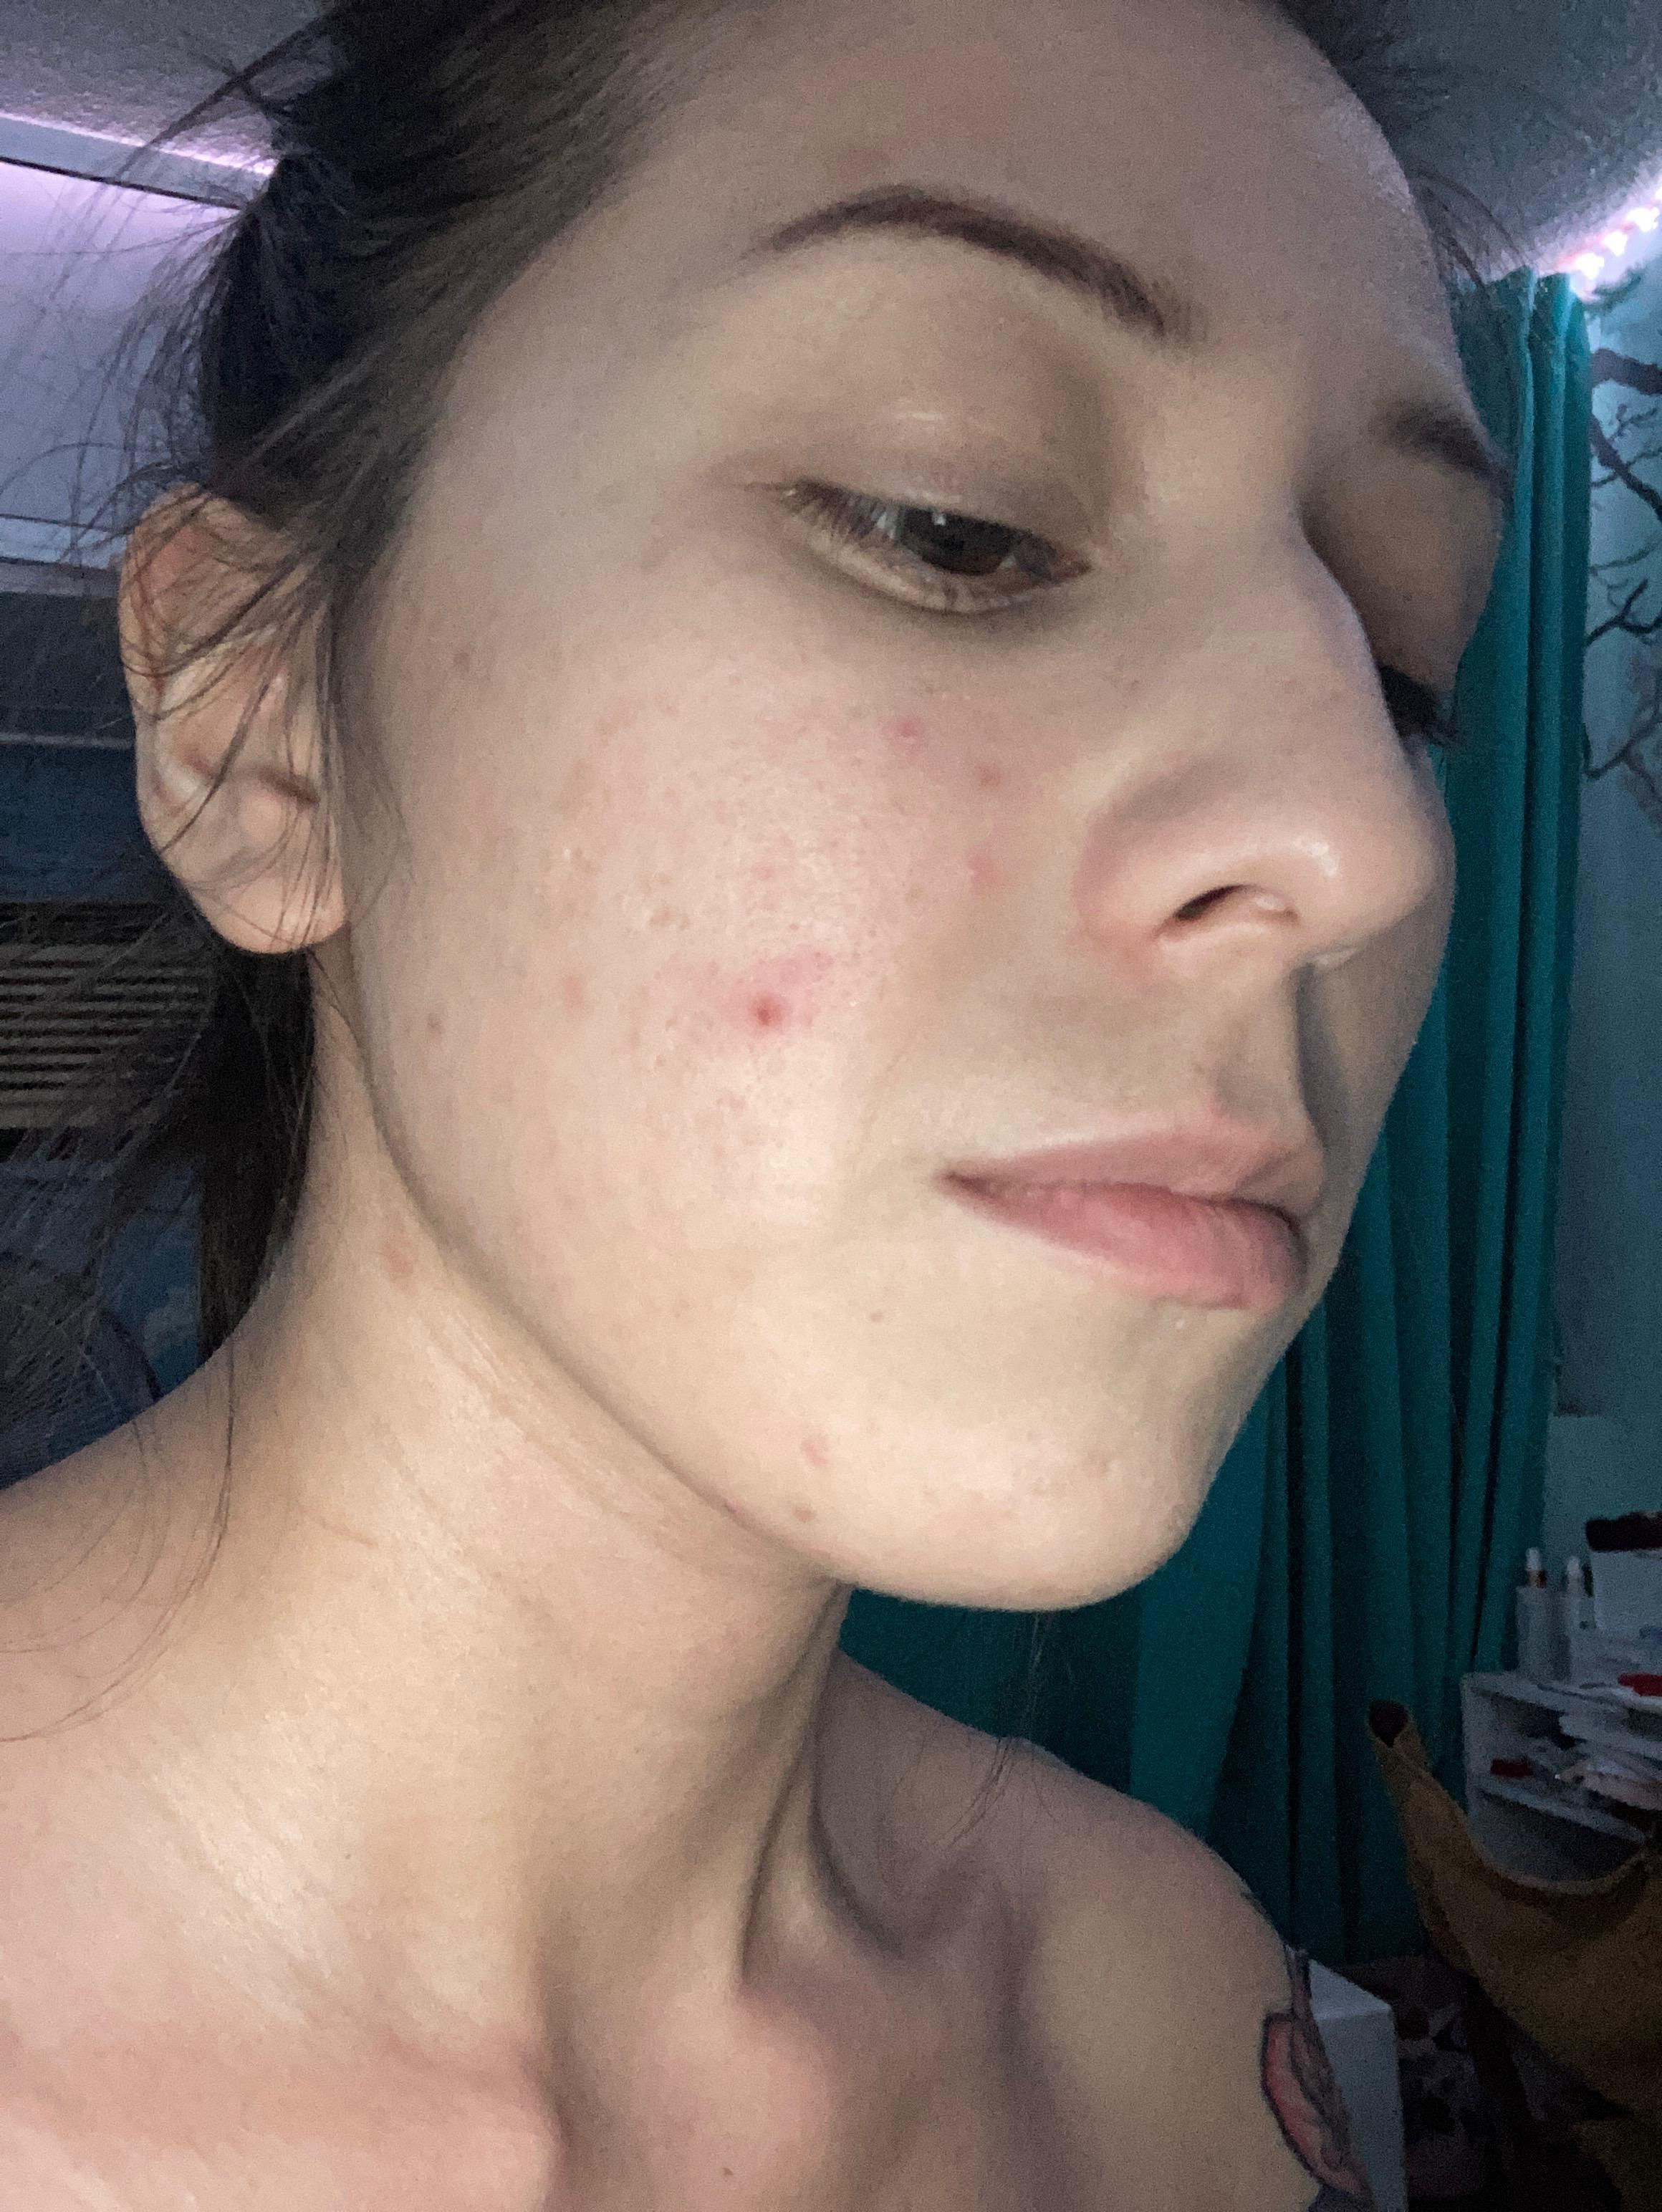Acne: (861, 698, 944, 756), (738, 997, 800, 1049), (787, 1416, 838, 1472), (637, 887, 677, 951), (962, 822, 988, 892), (560, 972, 592, 1023), (801, 1480, 826, 1538)
Eyebags: (733, 539, 1124, 688)
